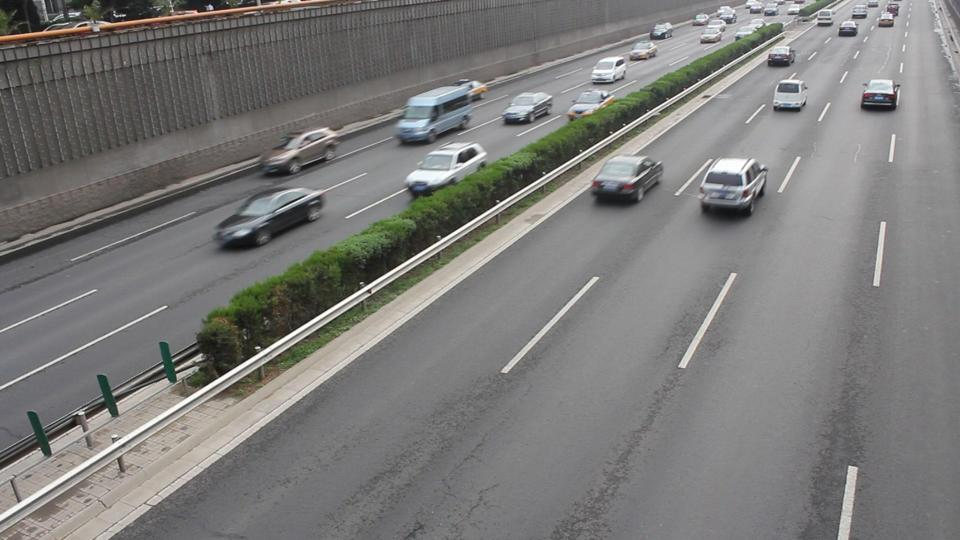car: (213, 187, 327, 249), (405, 141, 489, 196), (697, 156, 768, 215), (261, 126, 341, 176), (590, 154, 666, 204), (501, 92, 554, 125), (565, 89, 616, 122), (772, 76, 809, 111), (861, 79, 900, 111), (591, 56, 628, 84), (647, 19, 675, 42), (631, 37, 657, 61), (767, 46, 795, 67), (837, 21, 859, 37), (707, 17, 727, 34), (750, 13, 772, 27), (816, 10, 835, 26), (702, 29, 723, 43), (736, 25, 757, 39), (851, 5, 867, 18), (878, 16, 896, 27), (692, 10, 705, 24), (786, 3, 801, 13), (722, 10, 733, 23), (768, 5, 778, 15), (752, 3, 762, 11)
truck: (395, 80, 490, 144)
